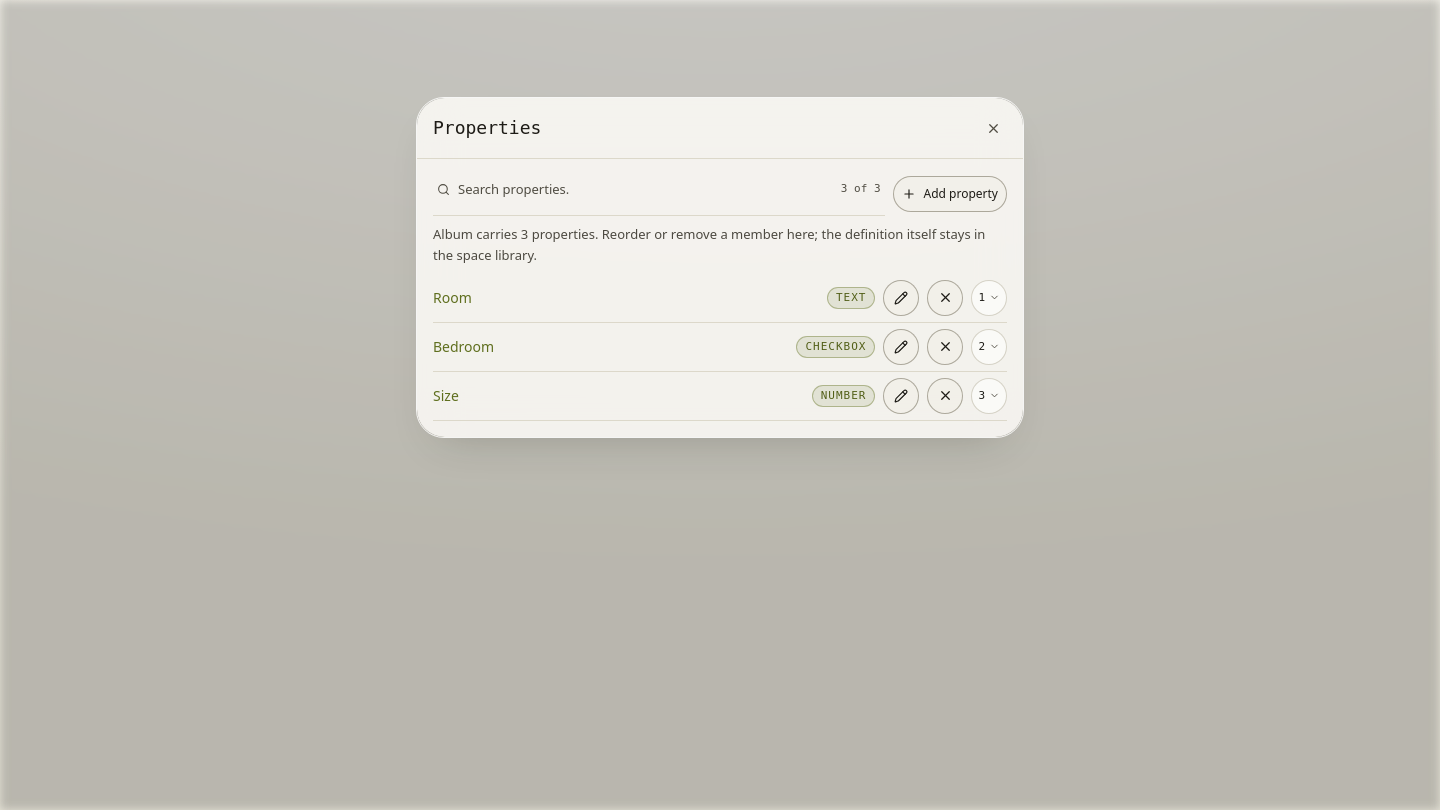
Test case: ManageProperties › searches the member list and counts the matches
expect the text "3 of 3" is shown: met, box [841,180,881,198]
Type "bed" into the search field labelled "Search properties" at (645, 189), box [458,171,833,207]
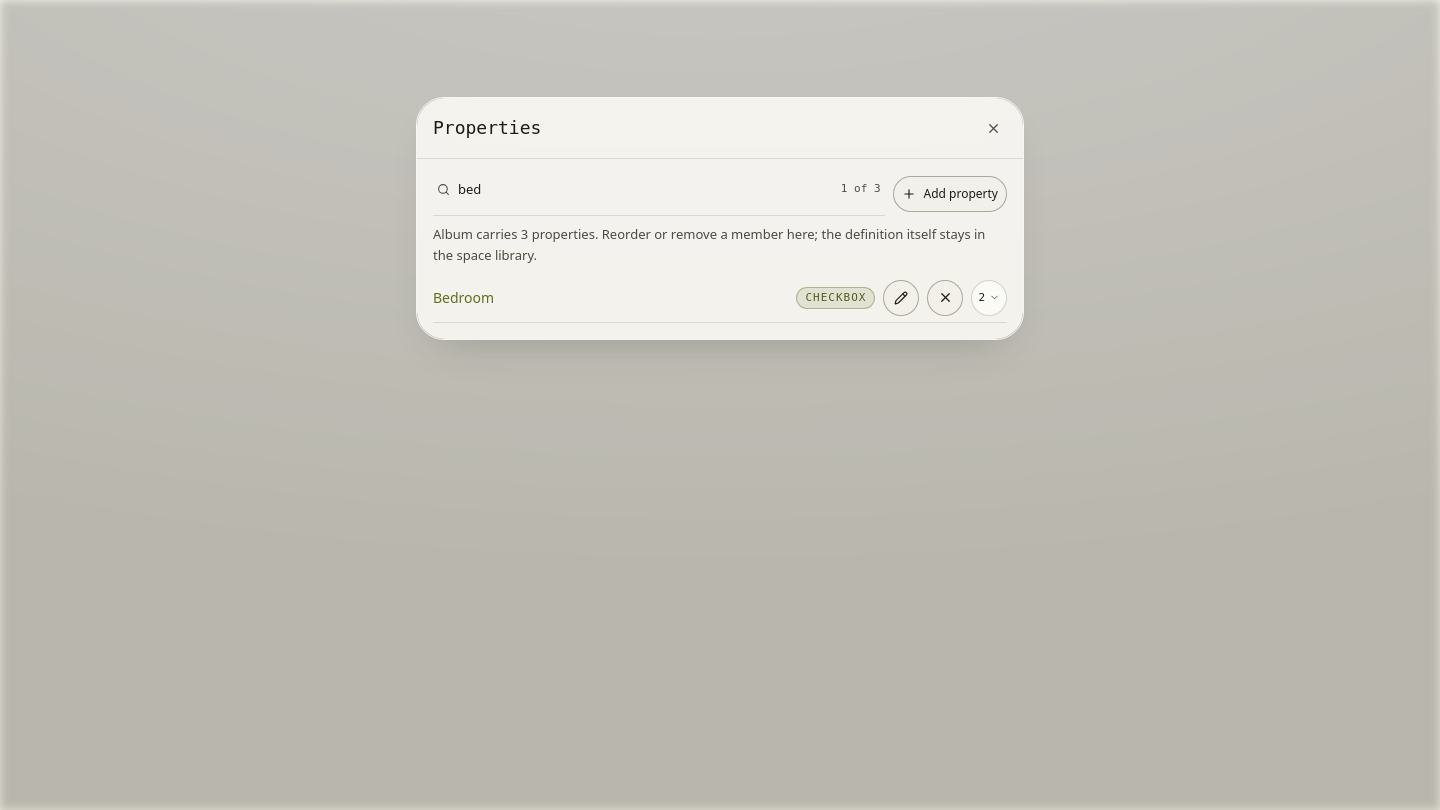
expect the button named "Edit Bedroom" is shown: met, box [883,280,919,316]
expect the text "1 of 3" is shown: met, box [841,180,881,198]
Replace the text in the search field named "Search properties" with "zzz" at (645, 189), box [458,171,833,207]
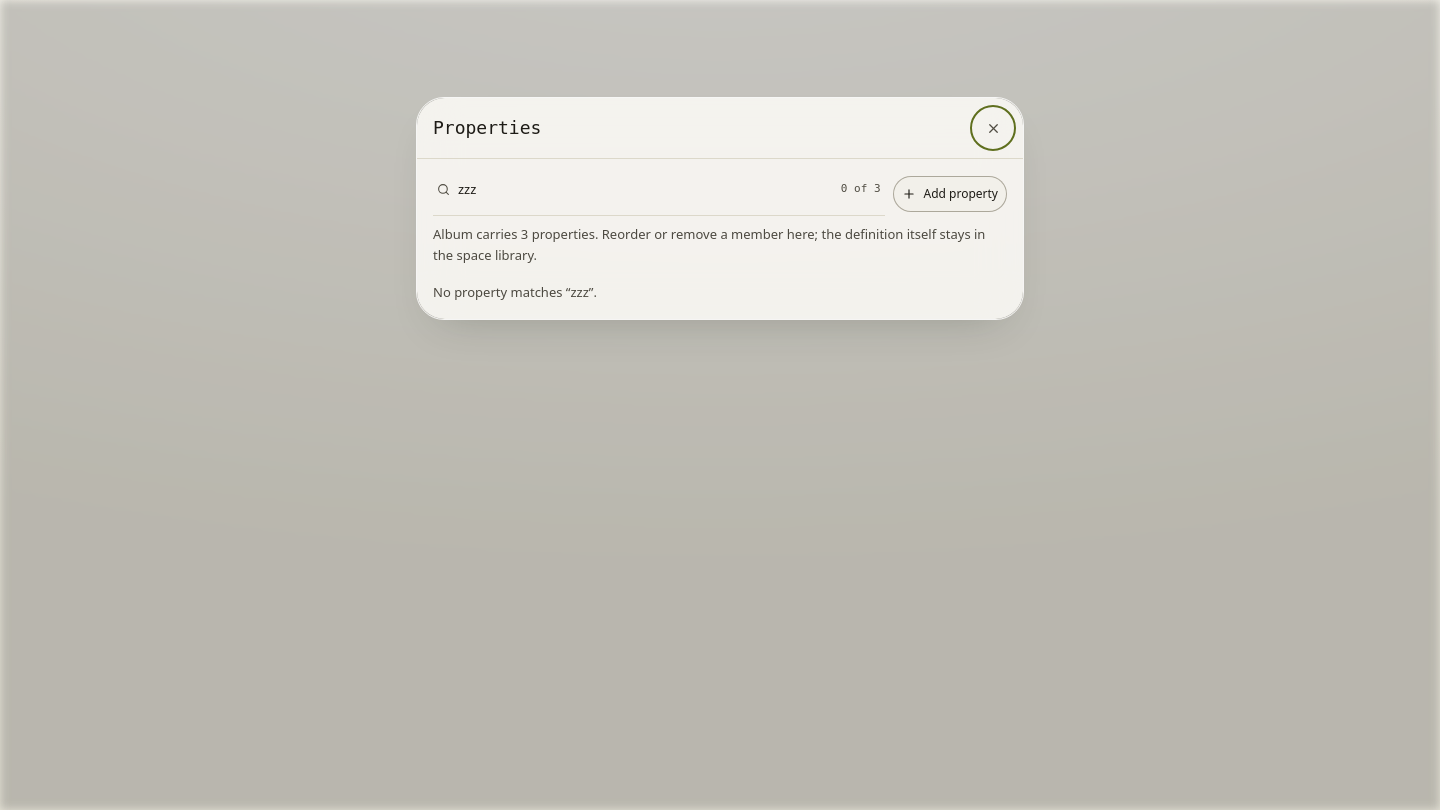
expect the text "0 of 3" is shown: met, box [841,180,881,198]
expect the text "No property matches “zzz”." is shown: met, box [433,283,597,301]
